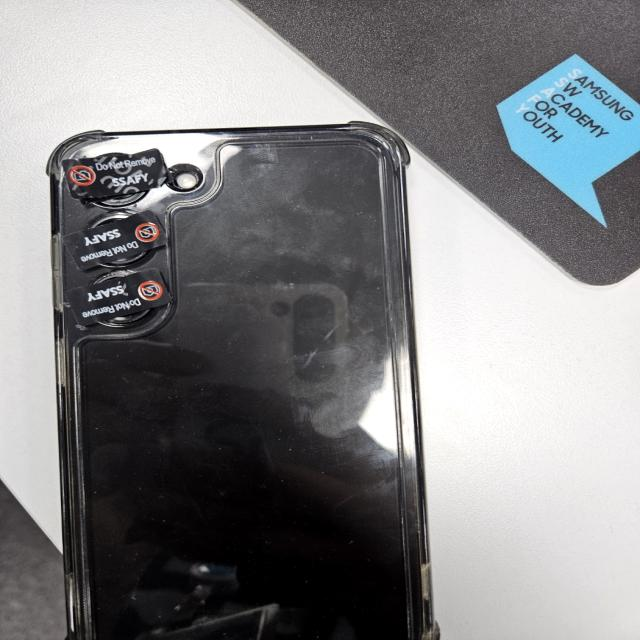phone: (48, 124, 444, 640)
removed_sticker: (64, 148, 167, 197)
sticker: (65, 210, 168, 269), (71, 282, 173, 321)
